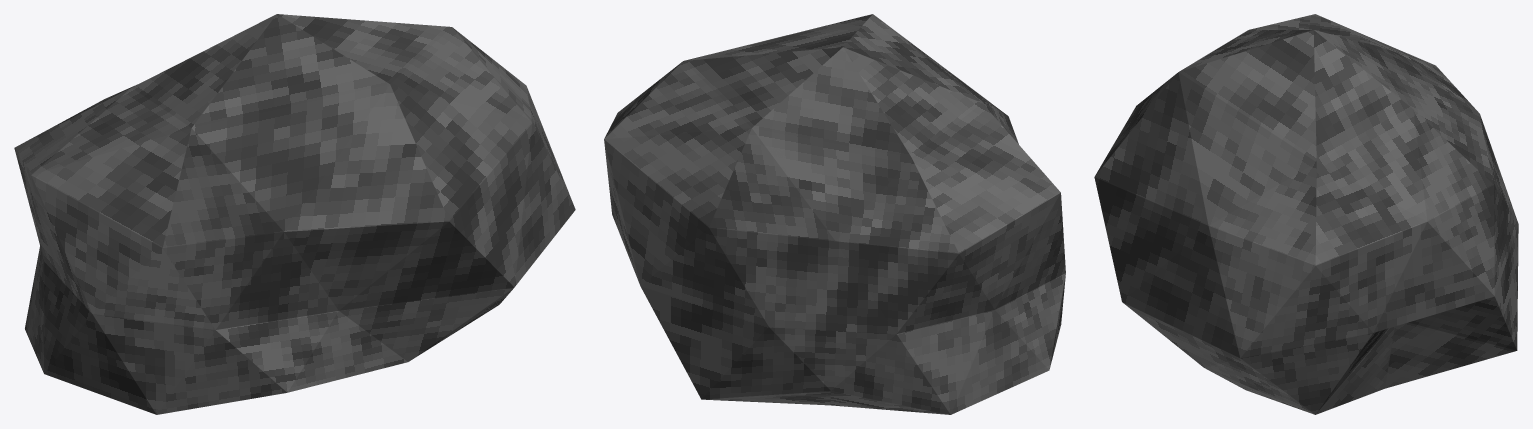
Rendered from Rock.fbx.
3 renders of one model, left to right at view 1: azimuth 30°, elevation 25°; view 2: azimuth 150°, elevation 25°; view 3: azimuth 270°, elevation 25°, orthographic. The views are drawn at different scales.
Parts seen in each view (by area): view 1: Icosphere; view 2: Icosphere; view 3: Icosphere.
Part boxes in pixels (x1=…): Icosphere: x1=14, y1=14, x2=575, y2=414; Icosphere: x1=604, y1=14, x2=1065, y2=414; Icosphere: x1=1094, y1=14, x2=1518, y2=414.
Bounding box in the file's own units: 600 × 390 × 474.
